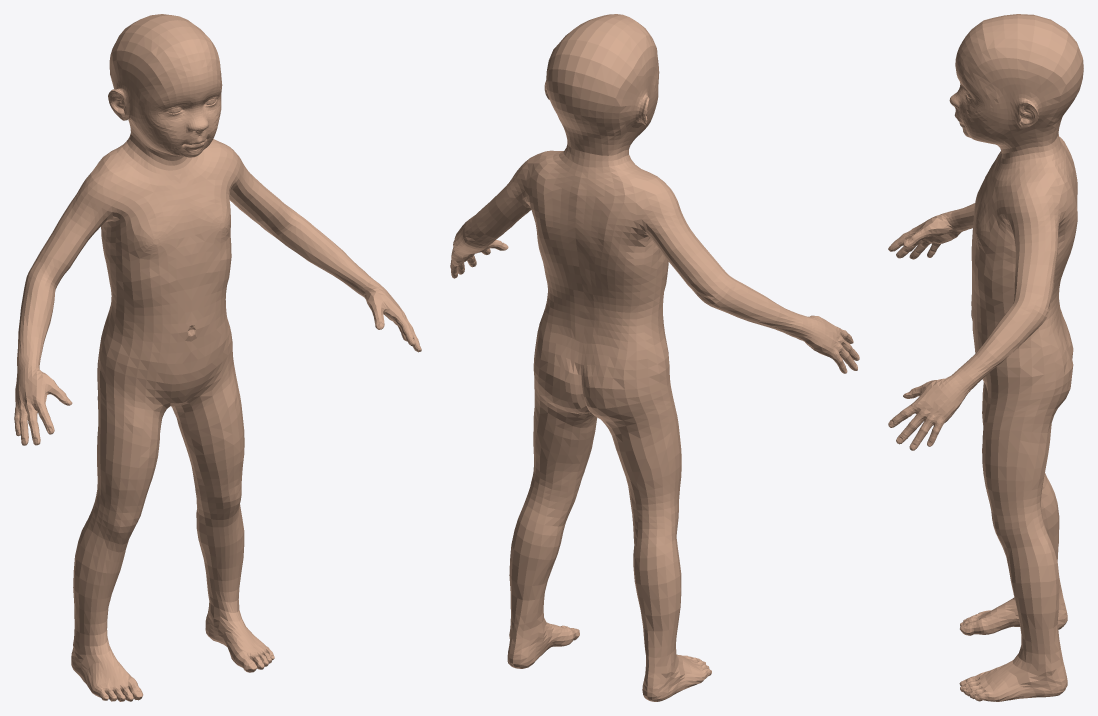
The model's file is peds_patient_child.anny_base.obj.
3 views of the same model, side by side, from view 1: azimuth 30°, elevation 25°; view 2: azimuth 150°, elevation 25°; view 3: azimuth 270°, elevation 25° (orthographic).
Bounding box in the file's own units: 0.805 × 1.25 × 0.3444.
